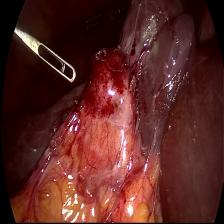Grasper: (13, 25, 80, 87), (82, 0, 124, 33)
